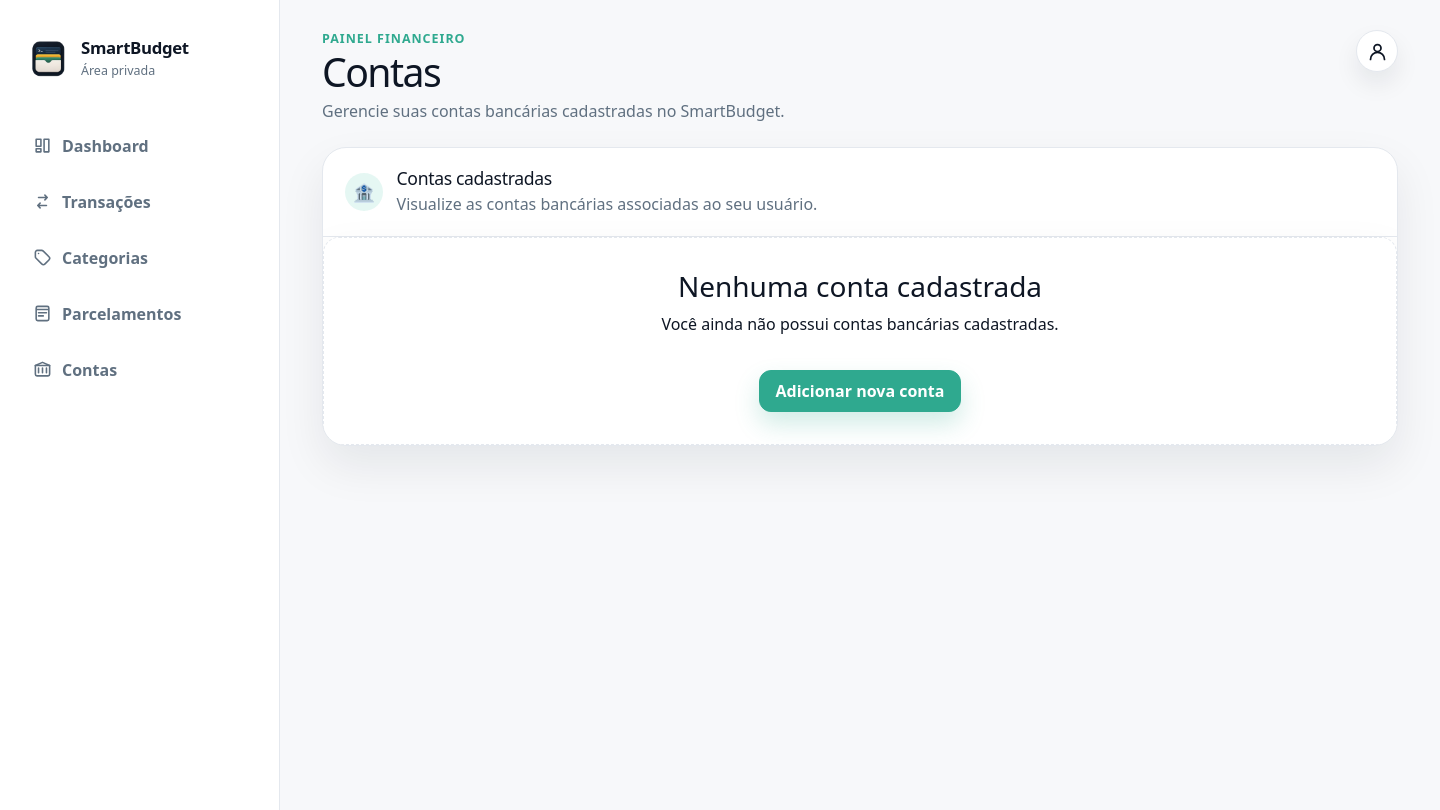
Test: Tela de Cadastro de Nova Conta Bancária (Issue #136) › deve exibir erro de validação ao tentar submeter o formulário com o nome em branco
Step 1. Click the button "Adicionar nova conta" → (860,391), box [758,370,961,412]
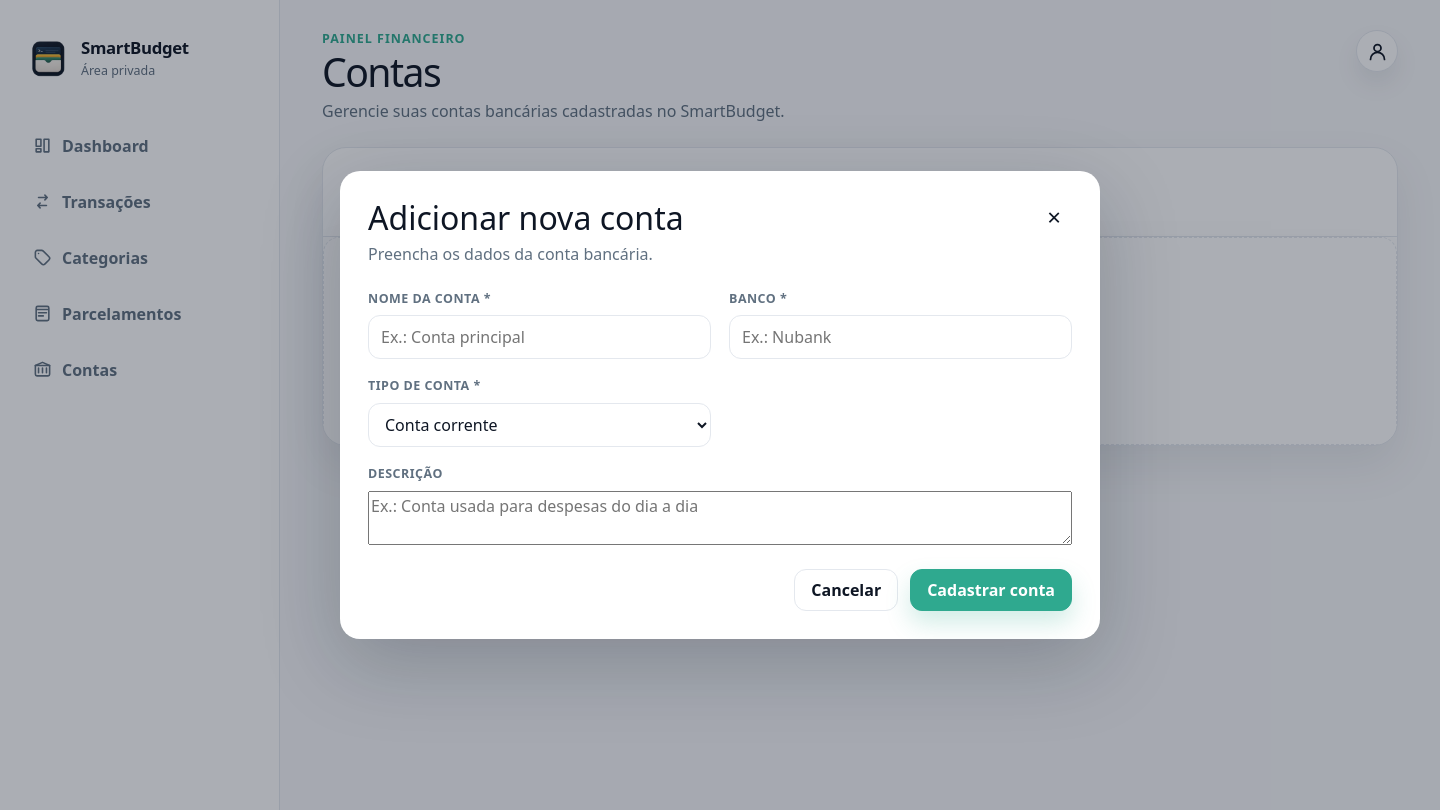
Step 2. Click the button "Cadastrar conta" → (991,590), box [910,569,1072,611]
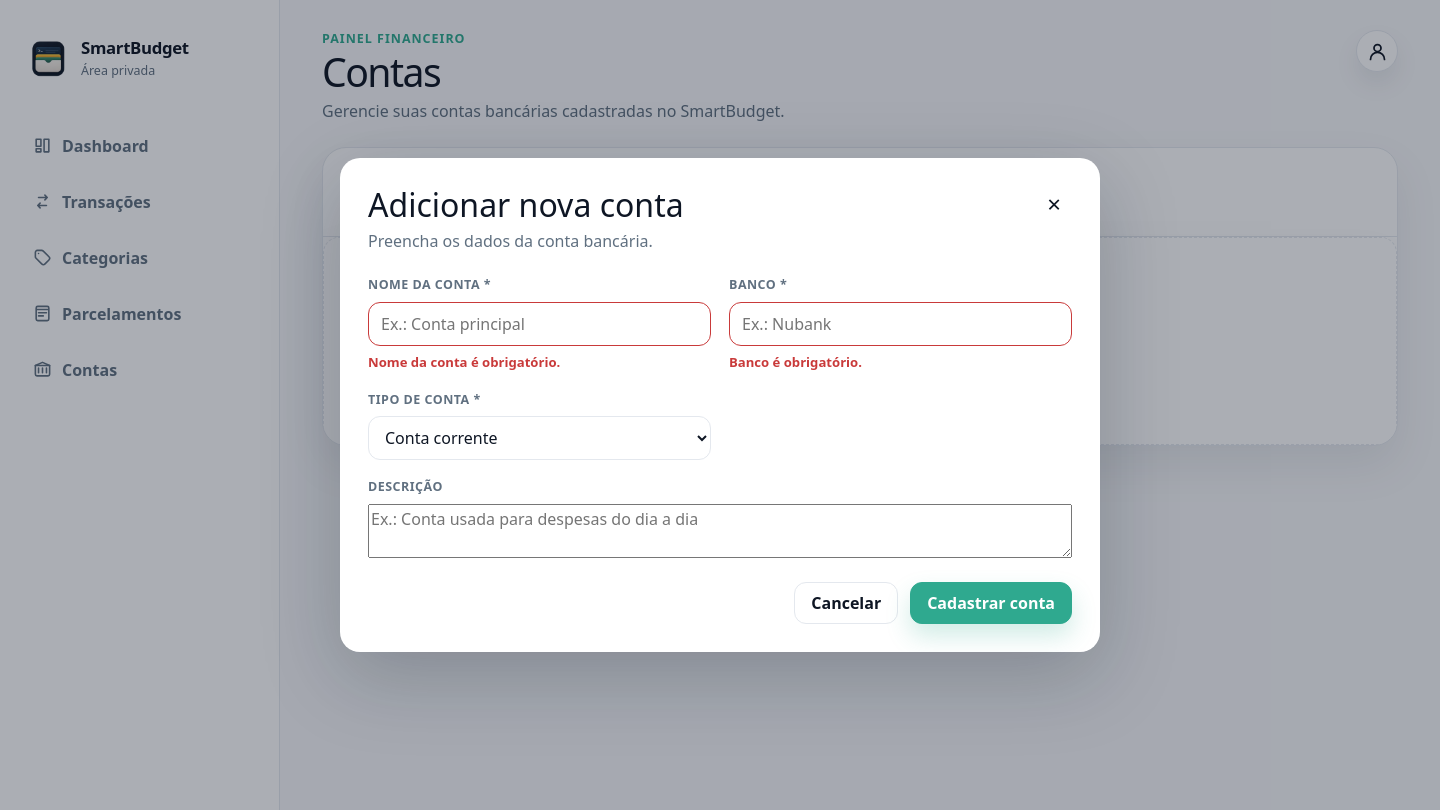
Expected: the text "Nome da conta é obrigatório." is shown, [368,353,560,371]
